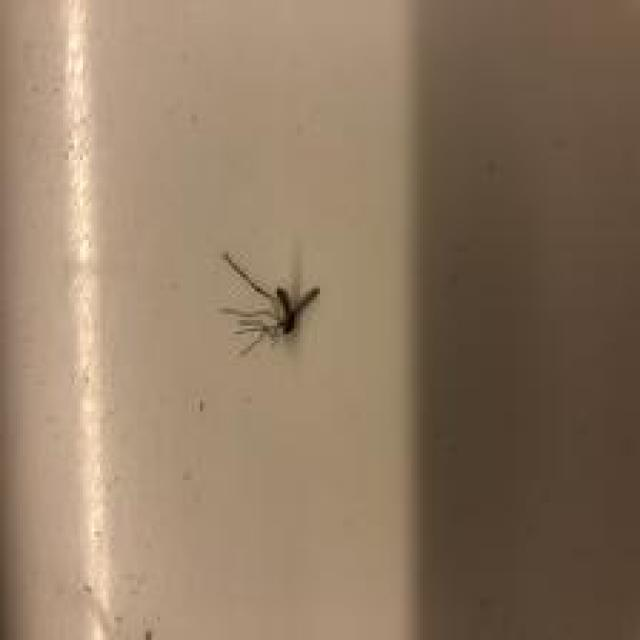Culex: (218, 249, 322, 357)
